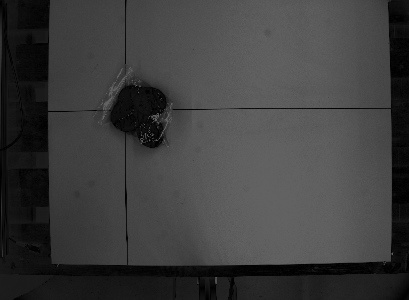t1: (87, 62, 181, 152)
